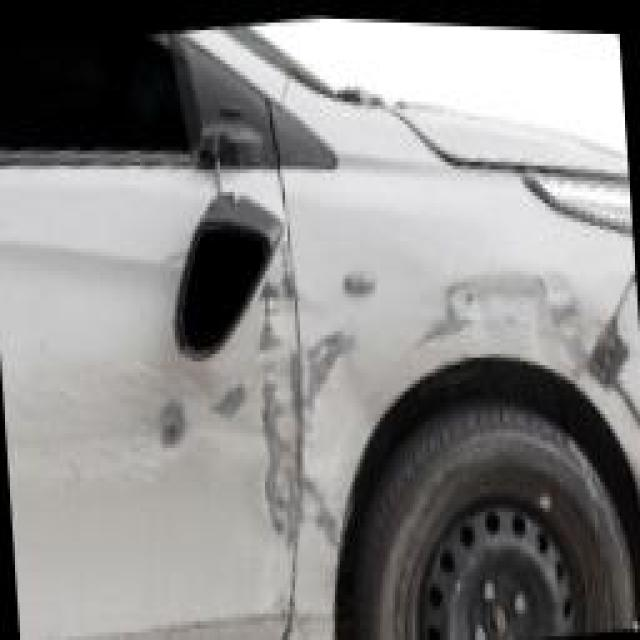Door: (104, 170, 298, 640)
Fender: (288, 171, 636, 589)
